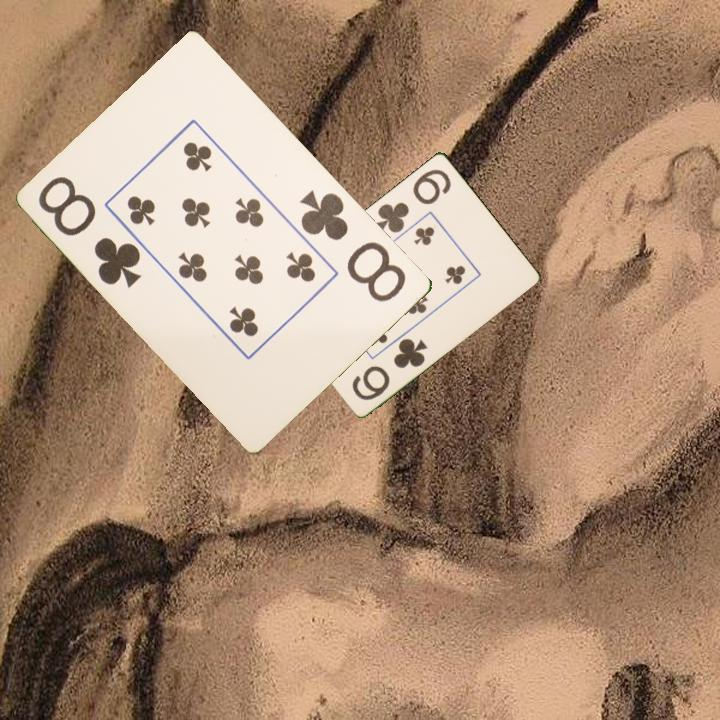6c: (371, 165, 454, 236), (348, 334, 431, 403)
8c: (297, 186, 410, 306), (35, 172, 145, 291)
